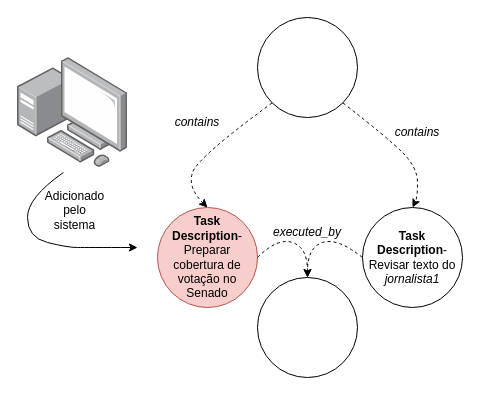
Some shapes in this 480 by 395 pixel diagram are drawn without their labels. Each missing label, with the centre of its shape:
Gerente1: [307,327]
SprintBacklog - Pauta da redação jornalística: [307,67]
